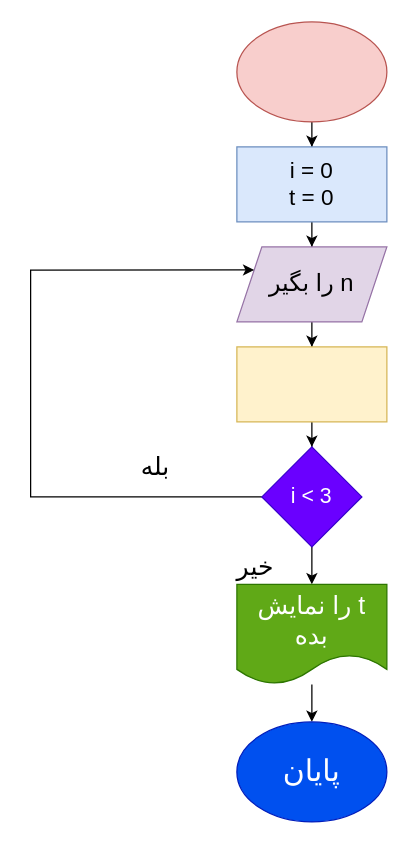
Image size: 409x844. Some labels were removed from this diagram. The centre of each missing label's shape, as x and y in pixels:
t = t + n i = i + 1: [311,384]
شروع: [311,71]
